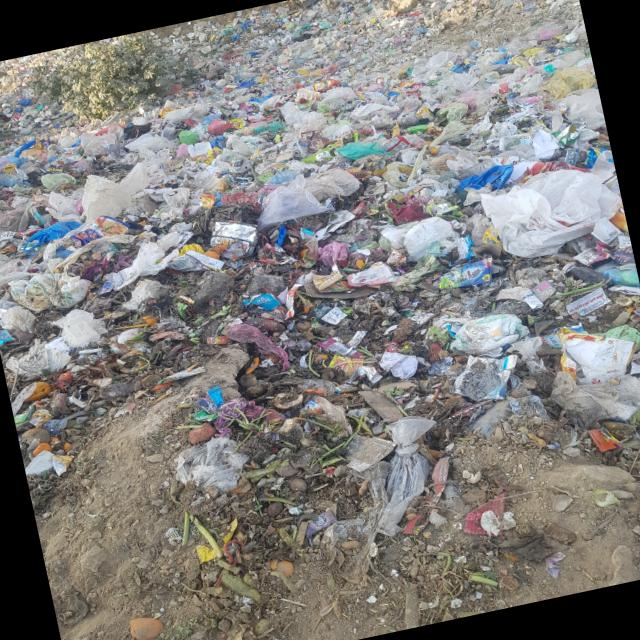electronic: (321, 345, 366, 378)
general: (481, 158, 618, 268), (59, 156, 154, 228), (254, 174, 327, 230)
